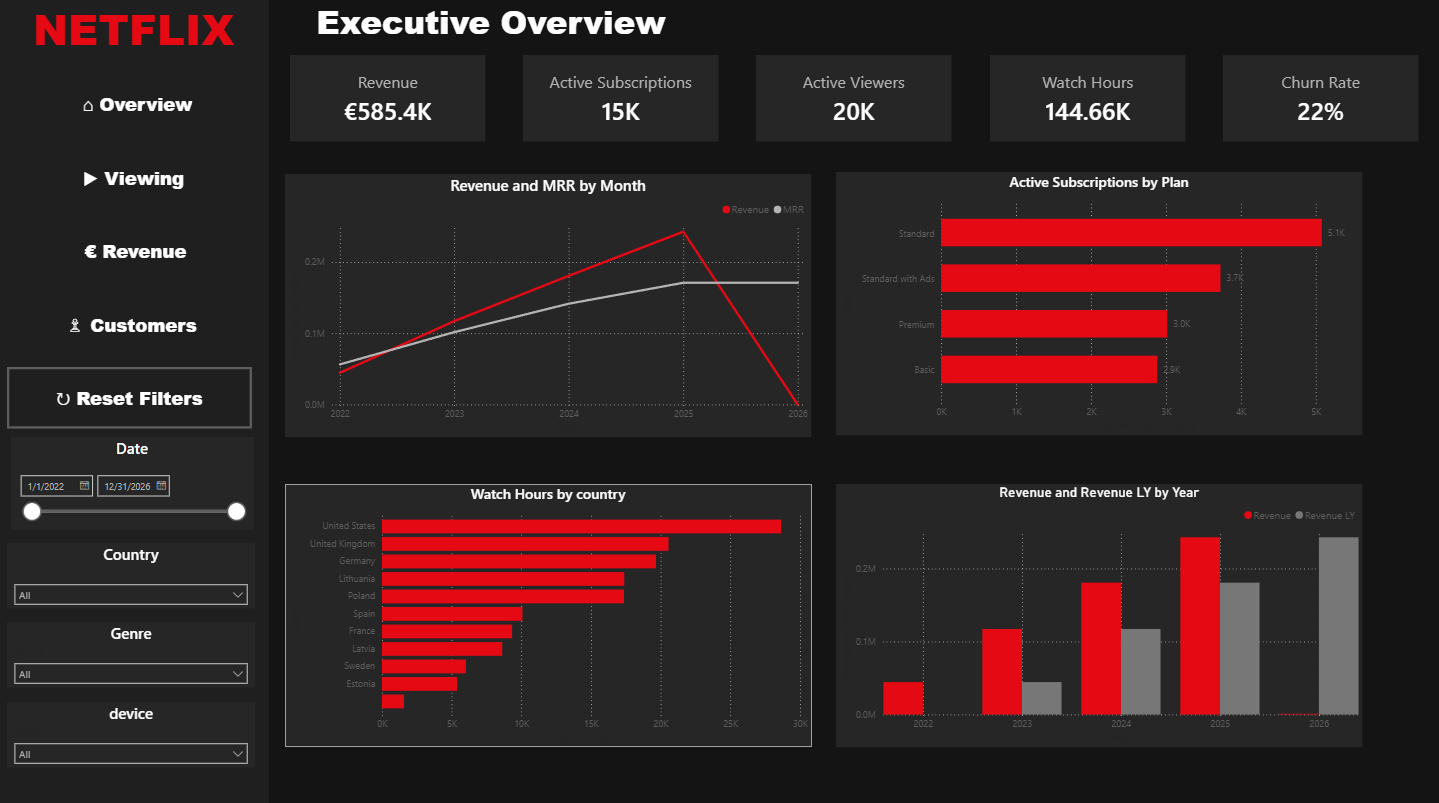

The page's visual inventory and layout, read from the dashboard file:
{"tool":"powerbi","page":{"name":"1. Executive Overview","canvas":[1920,1080],"ordinal":0},"visuals":[{"type":"shape","box":[0,0,360,1080],"z":0},{"type":"textbox","box":[0,0,360.7,99.3],"z":1000},{"type":"actionButton","box":[17.2,201.8,325.8,81.9],"z":2000},{"type":"actionButton","box":[14.7,397.1,325.8,81.9],"z":3000},{"type":"actionButton","box":[22.2,104.1,325.8,81.9],"z":4000},{"type":"actionButton","box":[19.7,299.4,325.8,81.9],"z":5000},{"type":"textbox","box":[360.7,0,590.6,80.1],"z":7000},{"type":"cardVisual","fields":{"Data":["_Measures.Revenue"]},"box":[388.5,80.1,260,115],"z":8000},{"type":"cardVisual","fields":{"Data":["_Measures.Active Subscriptions"]},"box":[698.7,80.1,260,115],"z":9000},{"type":"cardVisual","fields":{"Data":["_Measures.Active Viewers"]},"box":[1008.8,80.1,260,115],"z":10000},{"type":"cardVisual","fields":{"Data":["_Measures.Watch Hours"]},"box":[1318.9,80.1,260,115],"z":11000},{"type":"cardVisual","fields":{"Data":["_Measures.Churn Rate"]},"box":[1629,80.1,260,115],"z":12000},{"type":"lineChart","title":"Revenue and MRR by Month","fields":{"Category":["Date.Date.Variation.Date Hierarchy.Year","Date.Date.Variation.Date Hierarchy.Quarter","Date.Date.Variation.Date Hierarchy.Month","Date.Date.Variation.Date Hierarchy.Day"],"Y":["_Measures.Revenue","_Measures.MRR"]},"box":[382,238,700,350],"z":13000},{"type":"clusteredBarChart","title":"Active Subscriptions by Plan","fields":{"Category":["subscriptions.plan"],"Y":["_Measures.Active Subscriptions"]},"box":[1114,236,700,350],"z":14000},{"type":"clusteredBarChart","fields":{"Category":["users.country"],"Y":["_Measures.Watch Hours"]},"box":[382,650,700,350],"z":15000},{"type":"clusteredColumnChart","fields":{"Category":["Date.Date.Variation.Date Hierarchy.Year"],"Y":["_Measures.Revenue","_Measures.Revenue LY"]},"box":[1114,650,700,350],"z":16000},{"type":"actionButton","box":[12.2,494.8,325.8,81.9],"z":16001},{"type":"slicer","title":"Date","fields":{"Values":["Date.Date"]},"box":[16.7,588.3,321.7,123.3],"z":16002},{"type":"slicer","title":"Country","fields":{"Values":["users.country"]},"box":[11.7,728.3,330,86.7],"z":16003},{"type":"slicer","title":"Genre","fields":{"Values":["title_genres.genre"]},"box":[11.7,833.3,330,86.7],"z":16004},{"type":"slicer","title":"device","fields":{"Values":["viewing_history.device"]},"box":[11.7,940,330,86.7],"z":16005}]}

Visuals, with their boxes on the page's 1920x1080 design canvas (x1, y1, x2, y2). These are canvas units, not pixel positions in the 1439x803 screenshot, which may show the page scaled, cropped or inside an application window:
shape: region(0, 0, 360, 1080)
textbox: region(0, 0, 361, 99)
actionButton: region(17, 202, 343, 284)
actionButton: region(15, 397, 340, 479)
actionButton: region(22, 104, 348, 186)
actionButton: region(20, 299, 346, 381)
textbox: region(361, 0, 951, 80)
cardVisual - _Measures.Revenue: region(388, 80, 648, 195)
cardVisual - _Measures.Active Subscriptions: region(699, 80, 959, 195)
cardVisual - _Measures.Active Viewers: region(1009, 80, 1269, 195)
cardVisual - _Measures.Watch Hours: region(1319, 80, 1579, 195)
cardVisual - _Measures.Churn Rate: region(1629, 80, 1889, 195)
"Revenue and MRR by Month" lineChart: region(382, 238, 1082, 588)
"Active Subscriptions by Plan" clusteredBarChart: region(1114, 236, 1814, 586)
clusteredBarChart - users.country x _Measures.Watch Hours: region(382, 650, 1082, 1000)
clusteredColumnChart - Date.Date.Variation.Date Hierarchy.Year x _Measures.Revenue: region(1114, 650, 1814, 1000)
actionButton: region(12, 495, 338, 577)
"Date" slicer: region(17, 588, 338, 712)
"Country" slicer: region(12, 728, 342, 815)
"Genre" slicer: region(12, 833, 342, 920)
"device" slicer: region(12, 940, 342, 1027)
